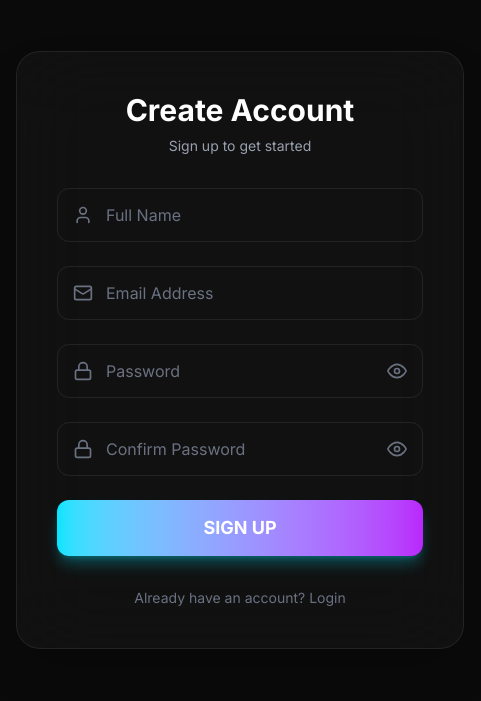
Test case: RegisterForm › shows error when passwords do not match
Step 1. Type "John Doe" into the field with placeholder "Full Name" → (240, 215), box [57, 188, 423, 242]
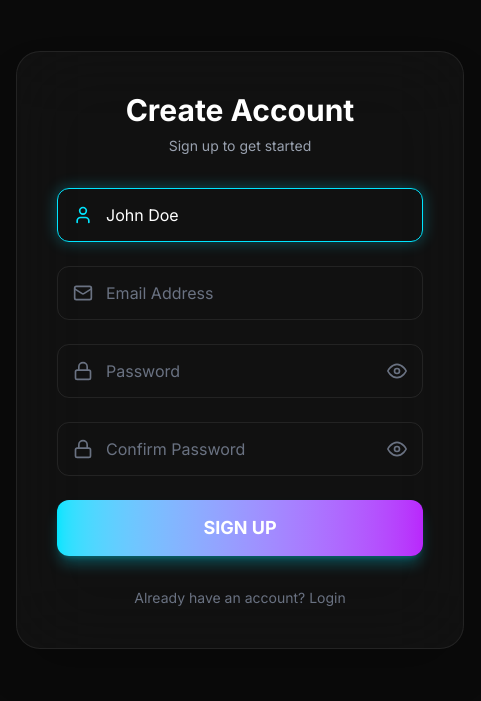
Step 2. Type "john@example.com" into the field with placeholder "Email Address" → (240, 293), box [57, 266, 423, 320]
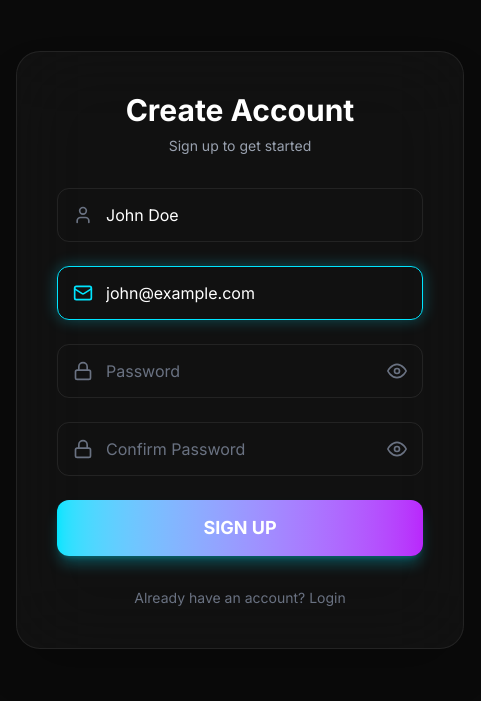
Step 3. Type "password123" into the password field with placeholder "Password" → (240, 371), box [57, 344, 423, 398]
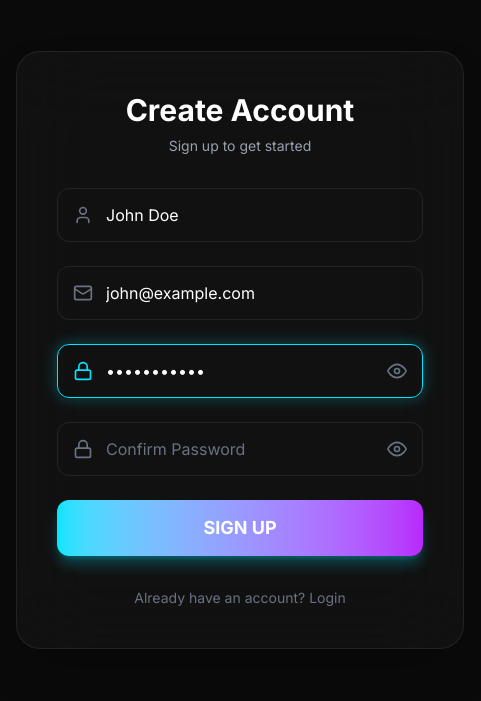
Step 4. Type "password456" into the password field with placeholder "Confirm Password" → (240, 449), box [57, 422, 423, 476]
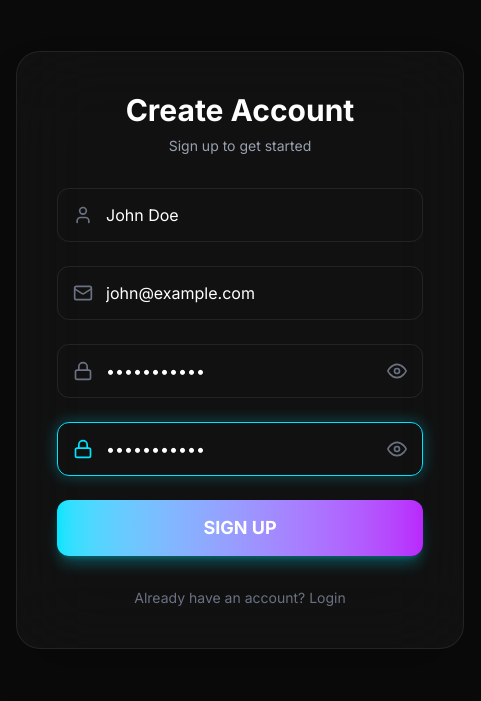
Step 5. Click the button "SIGN UP" → (240, 528), box [57, 500, 423, 556]
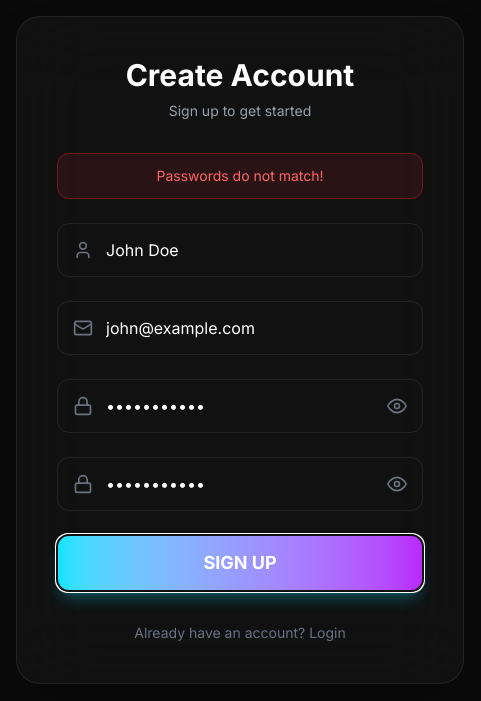
Check: the text "Passwords do not match!" is shown, box [57, 153, 423, 199]
